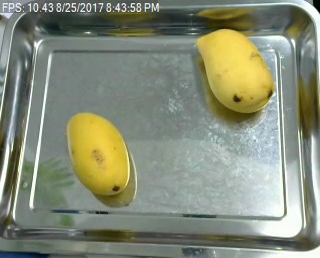Mango: (191, 26, 279, 114), (62, 111, 140, 196)
